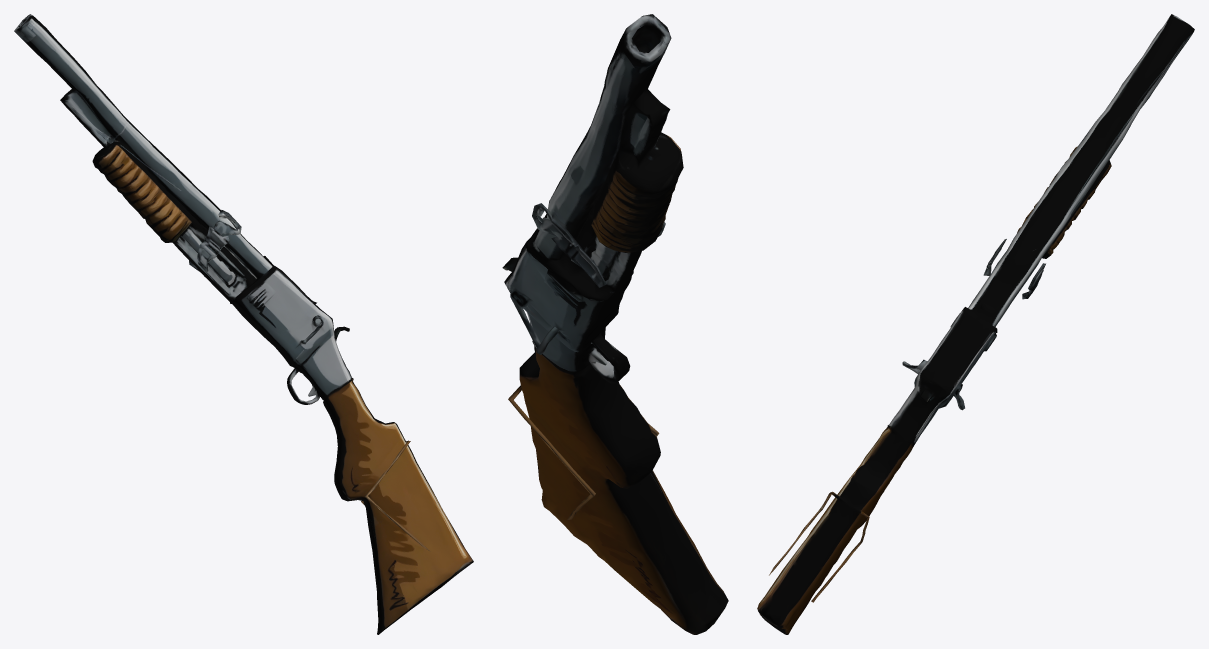
Rendered from Escopeta.fbx.
The picture shows the model from 3 angles, left to right: view 1: azimuth 30°, elevation 25°; view 2: azimuth 150°, elevation 25°; view 3: azimuth 270°, elevation 25°; orthographic projection. The views are drawn at different scales.
Visible parts, largest first — view 1: tripo_node_7c2a53b1; view 2: tripo_node_7c2a53b1; view 3: tripo_node_7c2a53b1.
Boxes of the visible parts, bbox=[...] form: tripo_node_7c2a53b1: bbox=[14, 14, 473, 634]; tripo_node_7c2a53b1: bbox=[502, 14, 728, 634]; tripo_node_7c2a53b1: bbox=[757, 14, 1194, 634].
Bounding box in the file's own units: 52.56 × 73.64 × 100.
Materials: 1 (1 with a texture image).
